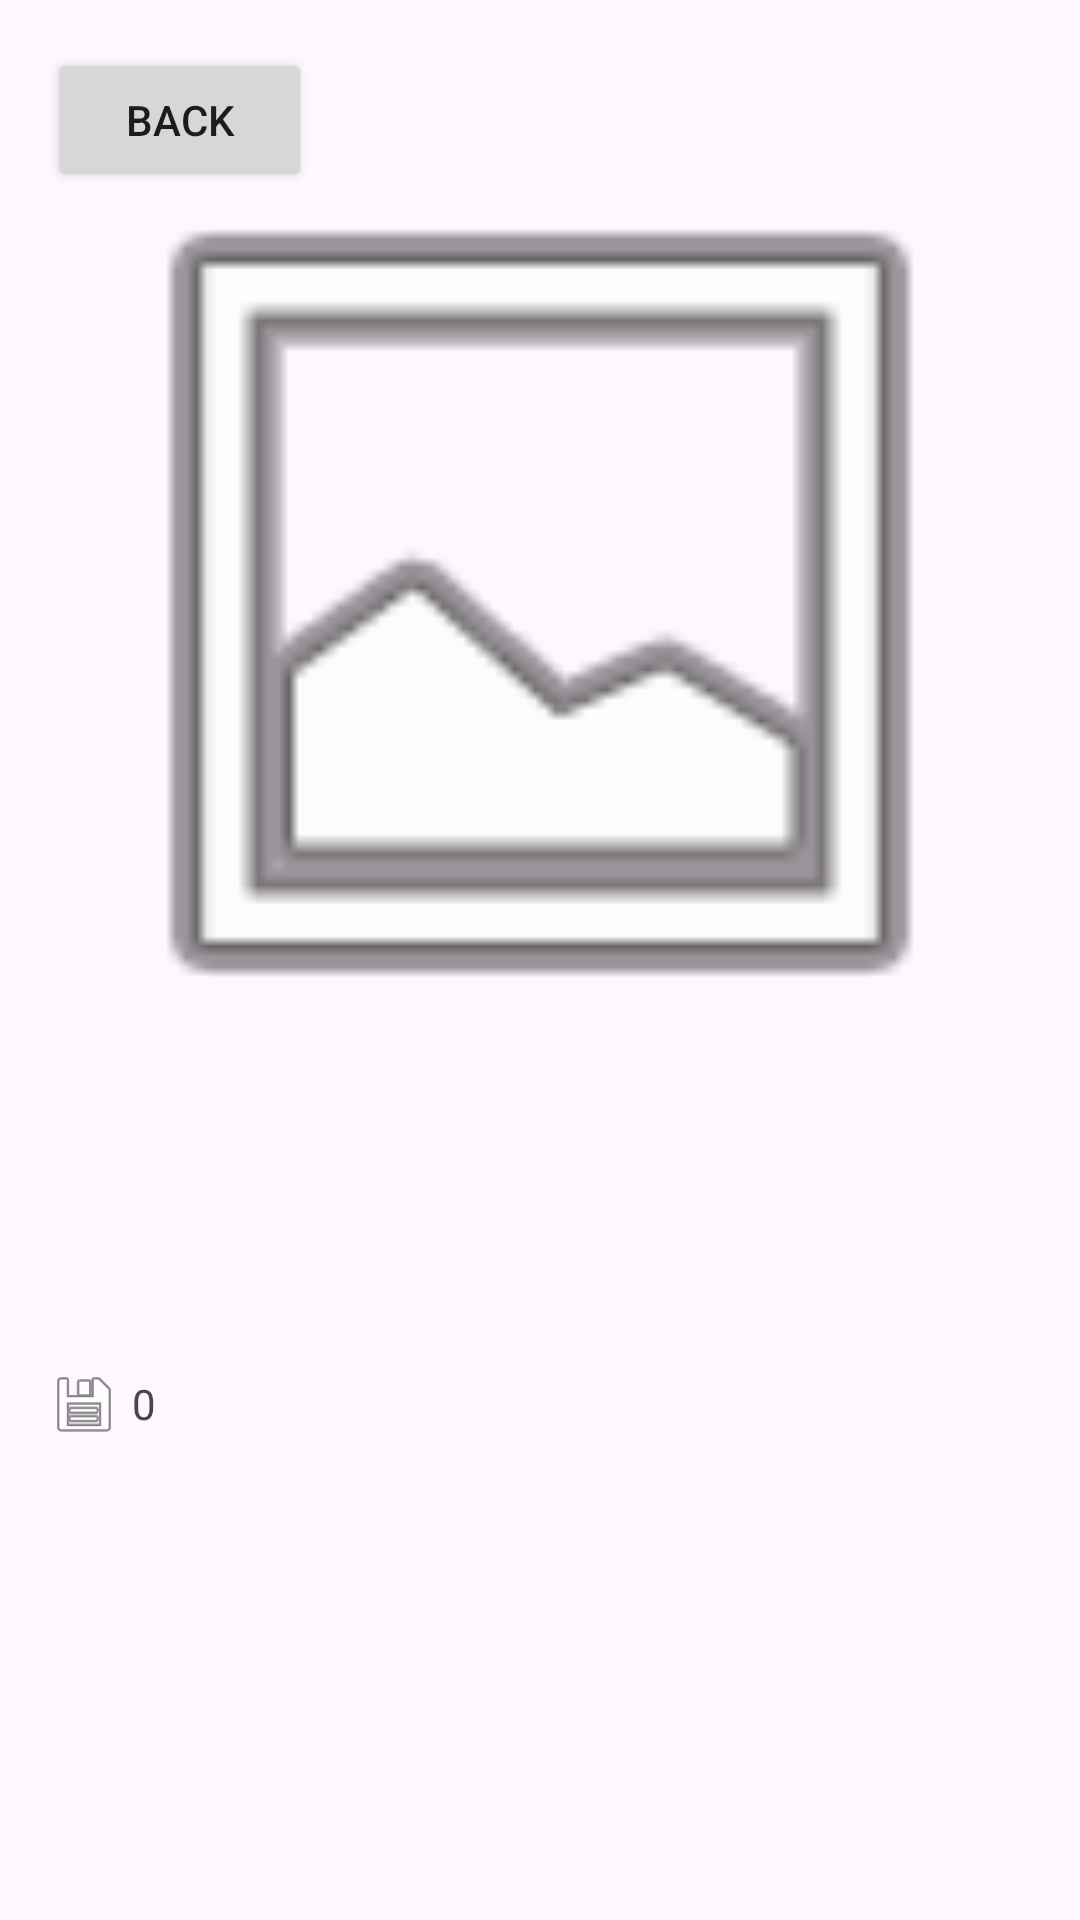

Icon click points for this 1080px x 1920px phone screenshot, format [x,y]:
Saves: [84,1404]
